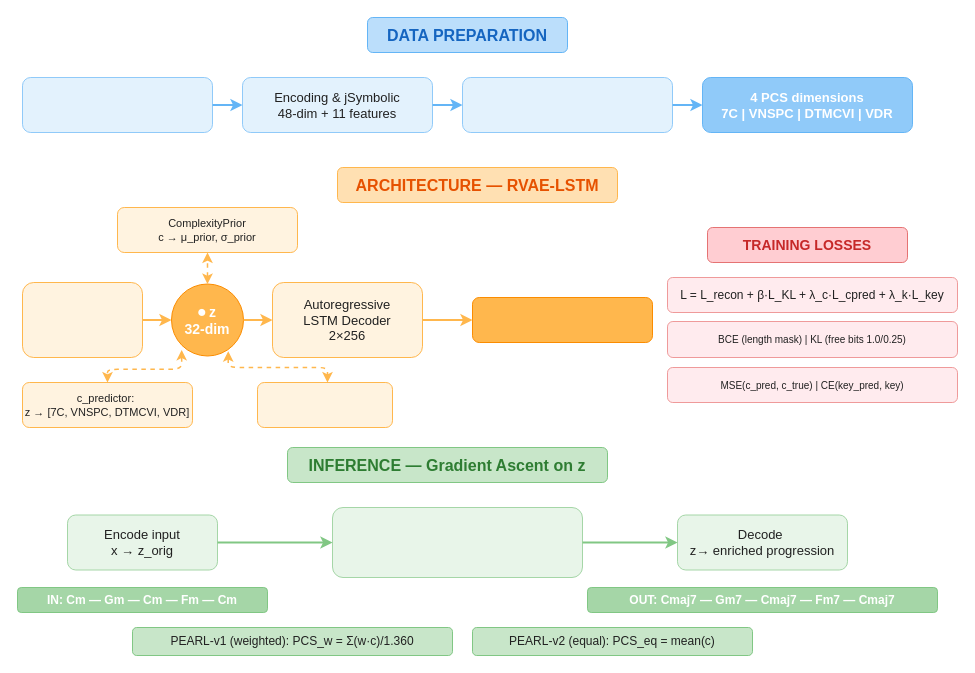
Image size: 975x673. Some labels were removed from this diagram. The centre of each missing label's shape, as x and y in pixels:
"48-dim chord logits → decode" goes at (x=562, y=319).
"Bidir LSTM Encoder 2×256" goes at (x=82, y=320).
"Chordonomicon ~877k MIDI progressions" goes at (x=117, y=104).
"Gradient Ascent min MSE(PCS(c_pred), target) + 0.005·MSE(z, z_orig)" goes at (x=457, y=542).
"key_predictor: z → 12 key" goes at (x=324, y=405).
"PCS via Perceptual Study 43 participants → 4 dims" goes at (x=567, y=104).
